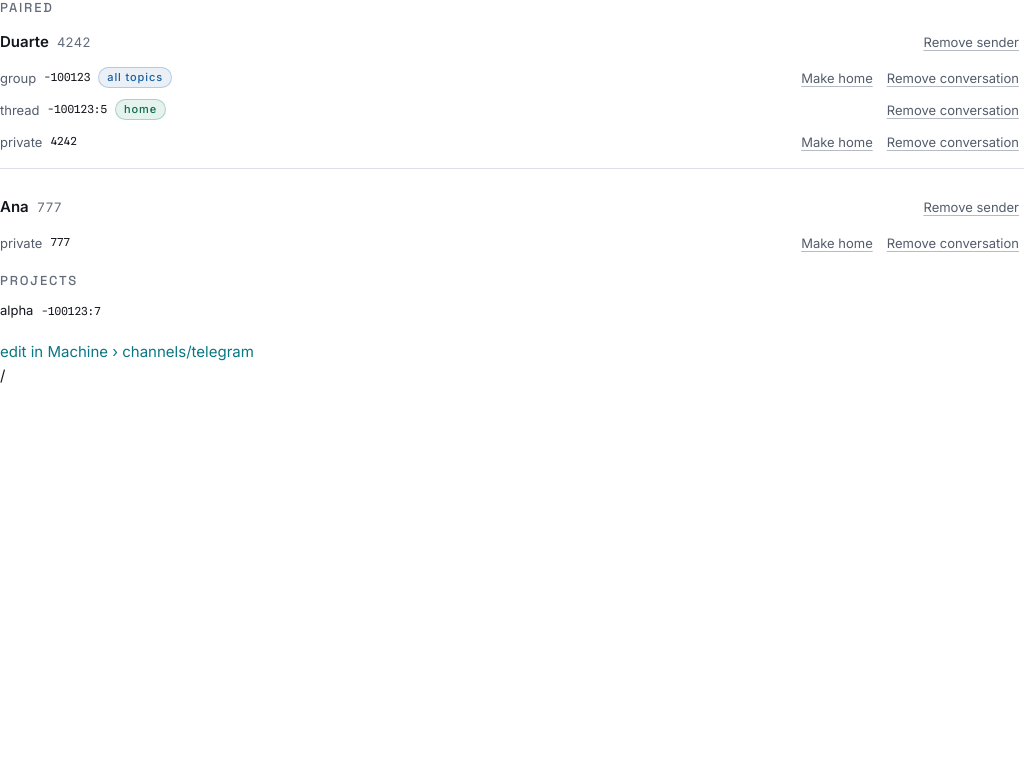
Test case: IdentitiesPanel › actions › does not warn about the home when the conversation is not the home
Check: the text "Duarte" is shown, box [0, 30, 49, 53]
What coordinates should you click on to do the following:
click the 3rd button "Remove conversation"
I would click on:
 (953, 142)
Its box is [882, 128, 1023, 156].
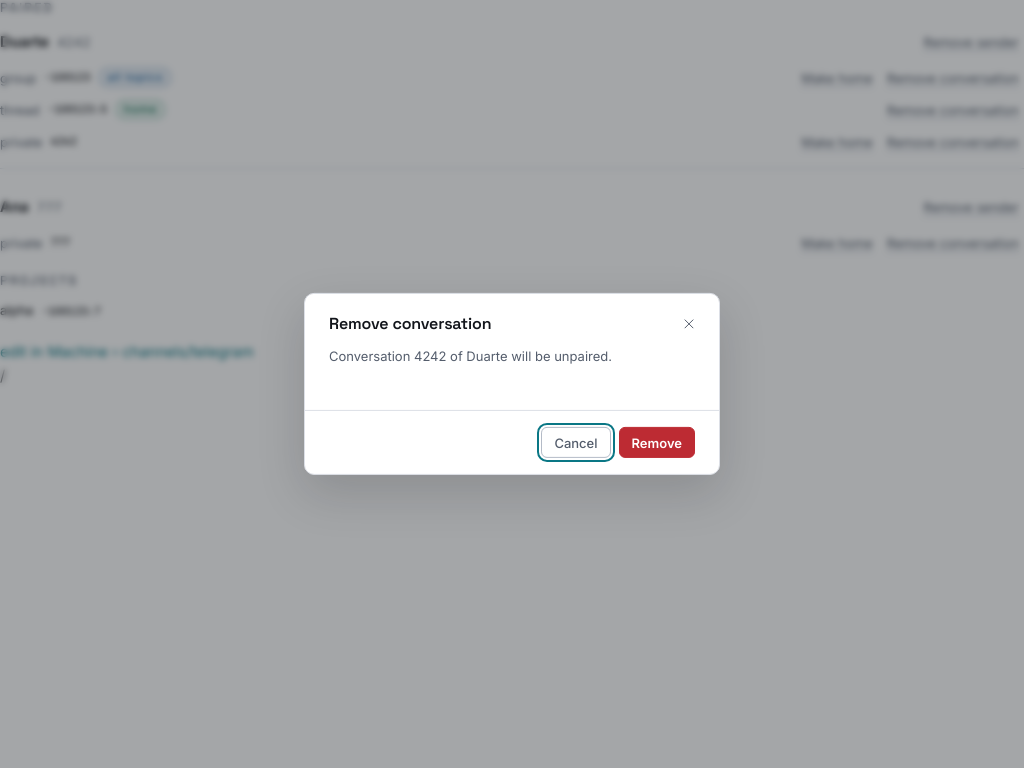
Check: the button "Remove" is shown, box [618, 427, 695, 458]
